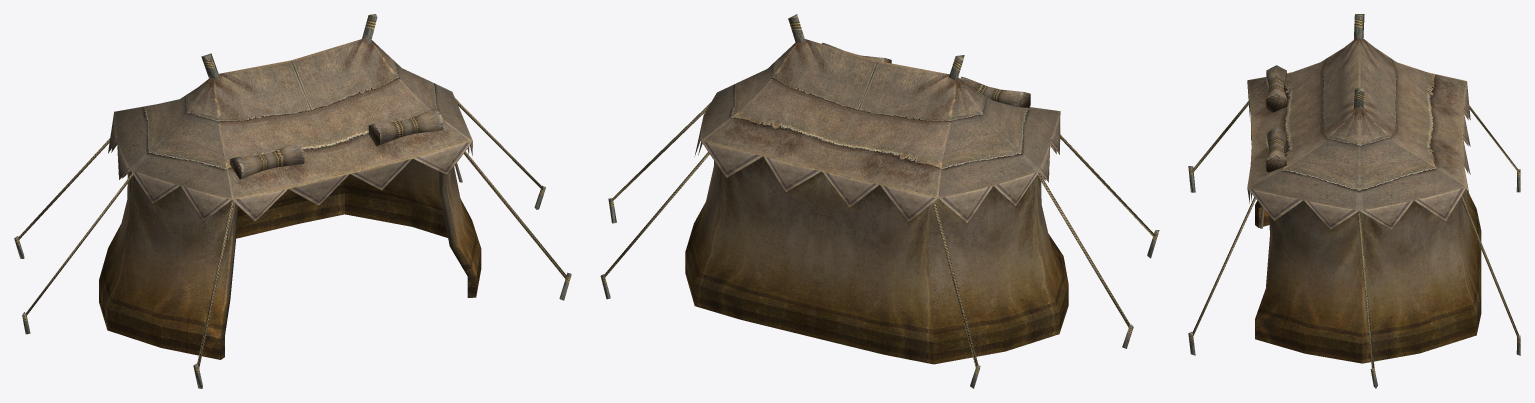
Rendered from obj_tent01.fbx.
The picture shows the model from 3 angles, left to right: view 1: azimuth 30°, elevation 25°; view 2: azimuth 150°, elevation 25°; view 3: azimuth 270°, elevation 25°; orthographic projection. The views are drawn at different scales.
Parts seen in each view (by area): view 1: Object01; view 2: Object01; view 3: Object01.
Boxes of the visible parts, x1,y1,x2,y2 form: Object01: [14, 14, 571, 388]; Object01: [600, 14, 1159, 388]; Object01: [1188, 14, 1520, 388].
Bounding box in the file's own units: 13.54 × 6.24 × 8.11.
